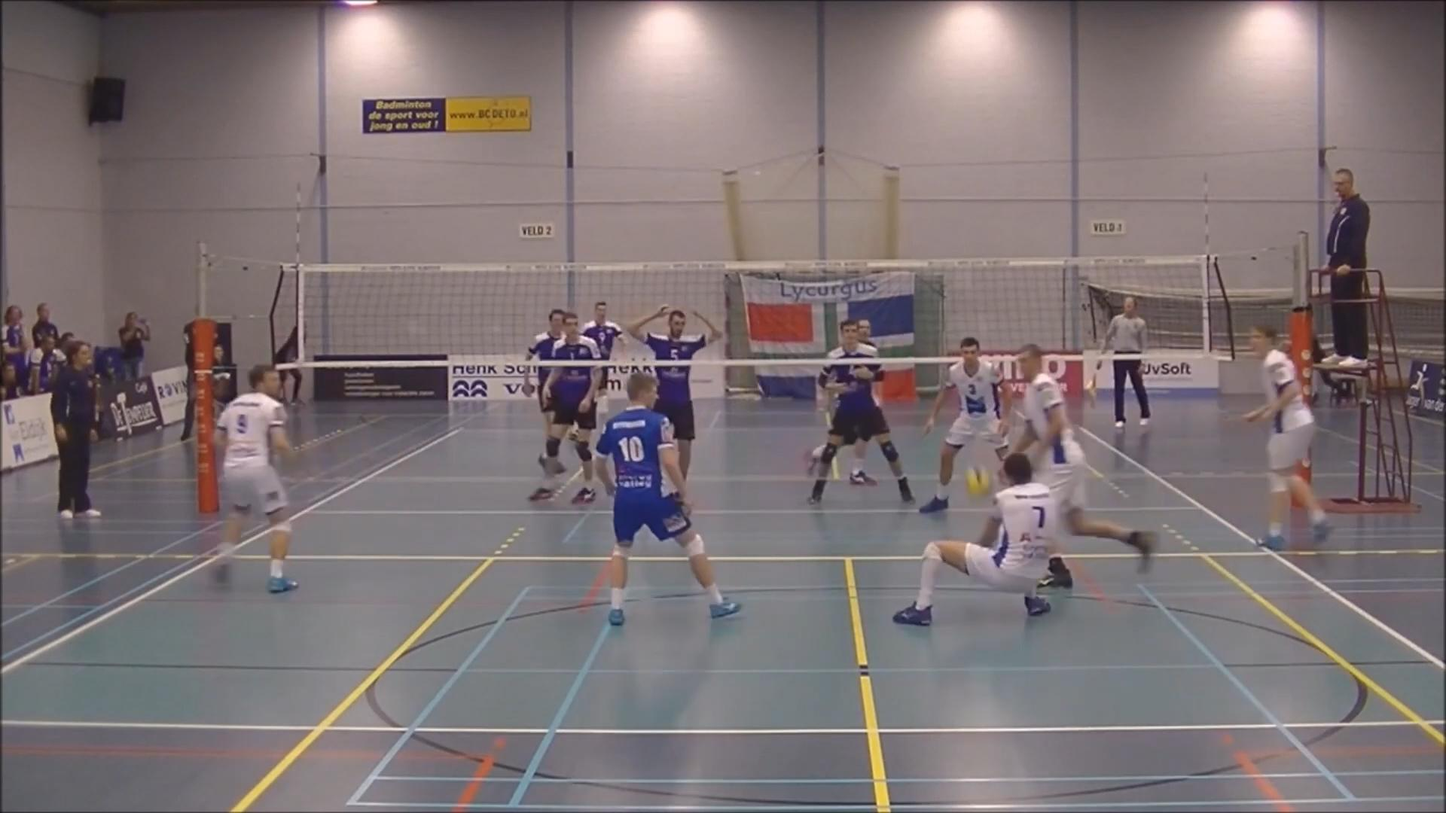Player: (597, 372, 740, 626), (1011, 344, 1155, 569), (809, 320, 914, 504), (1244, 326, 1330, 550), (217, 365, 296, 592), (920, 336, 1013, 513), (627, 306, 722, 476), (529, 364, 601, 504), (582, 301, 622, 358), (523, 367, 551, 436), (849, 440, 877, 485)
Receive: (878, 449, 1173, 629)
ball: (964, 459, 994, 495)
